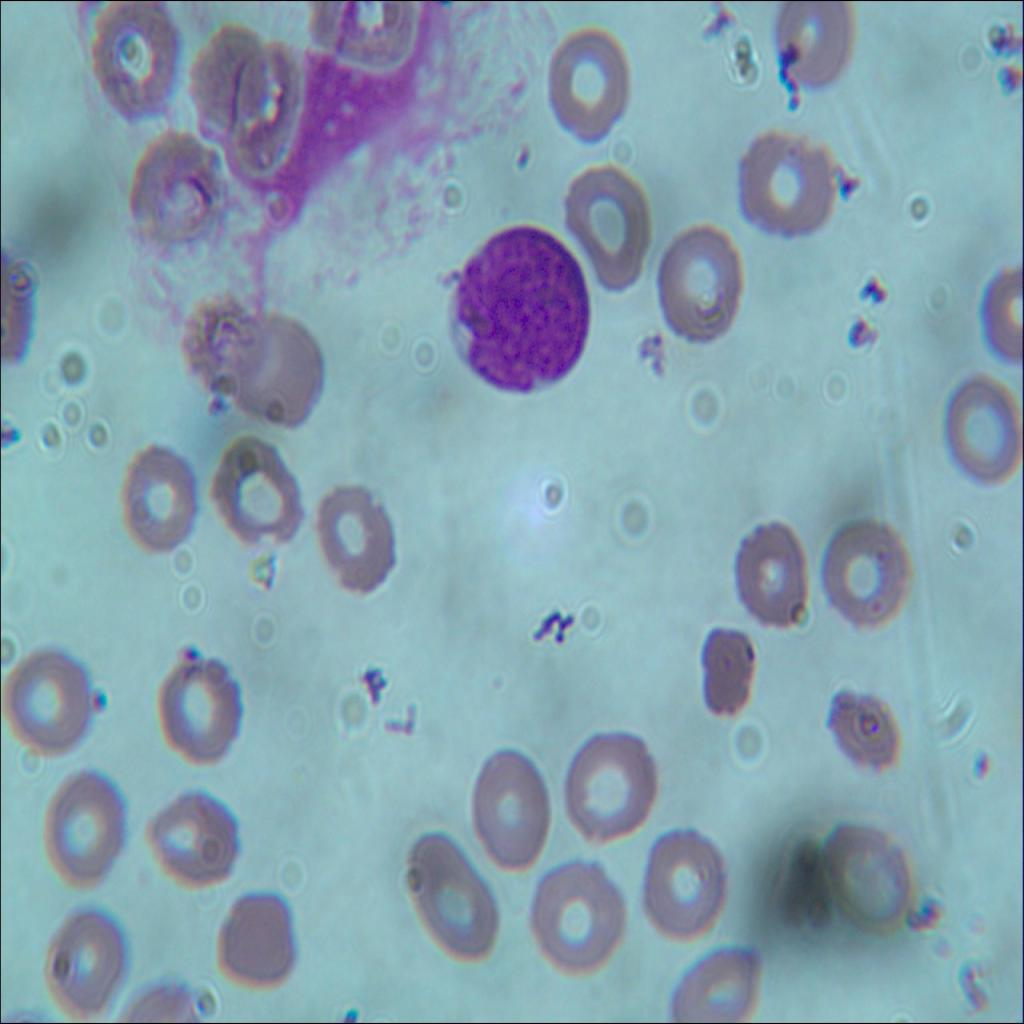Eritrosit: (811, 801, 913, 952), (403, 822, 506, 966), (551, 164, 651, 294), (524, 851, 631, 971), (123, 131, 224, 258), (818, 511, 918, 638), (88, 0, 183, 131), (654, 221, 756, 343), (566, 724, 663, 850), (471, 740, 556, 878), (204, 432, 301, 550), (729, 502, 816, 632), (39, 903, 131, 1023), (538, 29, 630, 145), (42, 770, 128, 894), (639, 821, 729, 939), (114, 437, 200, 559), (153, 648, 241, 767), (309, 481, 398, 597), (734, 136, 839, 234), (6, 646, 96, 758), (146, 784, 241, 885), (182, 291, 266, 401), (236, 312, 318, 424), (768, 0, 864, 94), (660, 931, 758, 1023), (942, 367, 1020, 482), (224, 42, 295, 168), (215, 894, 302, 991), (186, 18, 262, 124), (822, 687, 908, 774), (318, 0, 420, 65), (700, 612, 758, 721)
Limfoblast: (443, 224, 594, 405)
Platelet: (964, 748, 998, 784), (79, 684, 111, 717), (178, 638, 202, 674), (336, 1005, 366, 1023)
